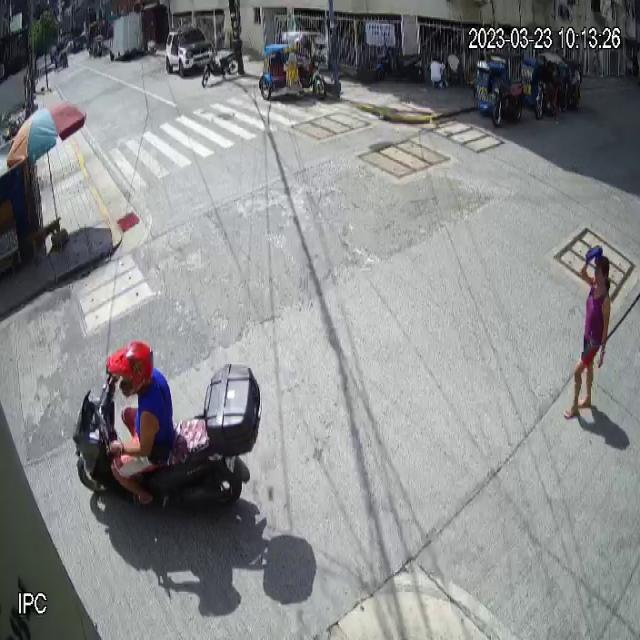Motorcycle: (72, 356, 263, 513)
Tricycle: (259, 30, 328, 104), (474, 50, 527, 132)
